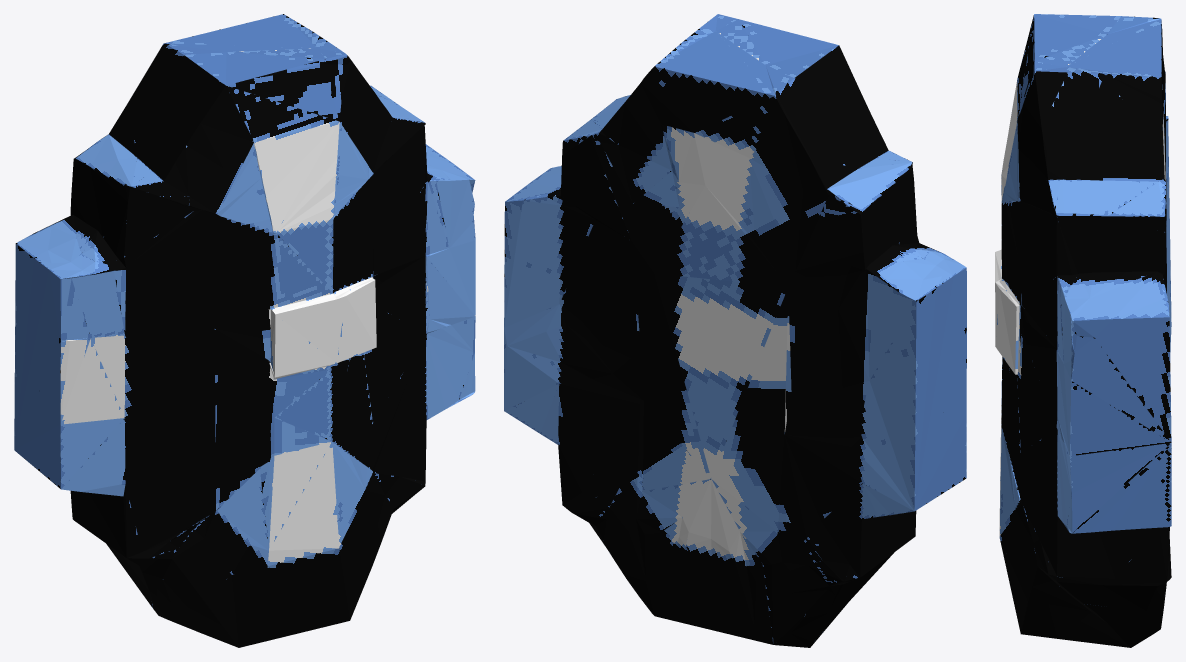
3 renders of one model, left to right at view 1: azimuth 30°, elevation 25°; view 2: azimuth 150°, elevation 25°; view 3: azimuth 270°, elevation 25°, orthographic.
Parts seen in each view (by area): view 1: OBJ0a4; view 2: OBJ0a4; view 3: OBJ0a4.
Part boxes in pixels (left/top/right/bottom): OBJ0a4: left=14, top=14, right=475, bottom=647; OBJ0a4: left=504, top=14, right=966, bottom=647; OBJ0a4: left=995, top=14, right=1171, bottom=647.
Size of the model in its own units: 0.0878 by 0.1139 by 0.0322.
Materials: 1 (1 with a texture image).
